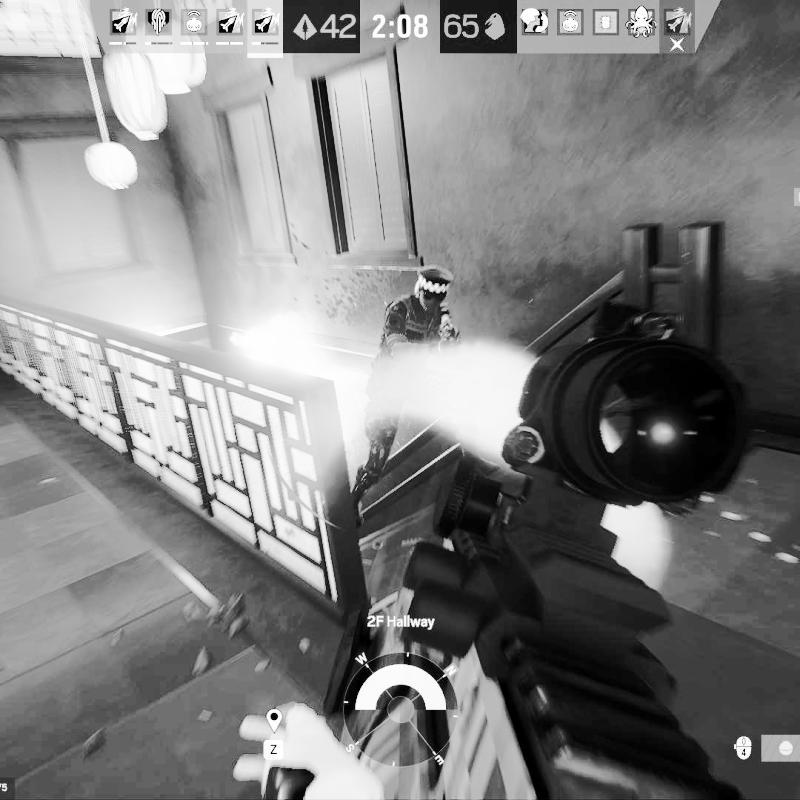Character: (345, 263, 468, 534)
Head: (412, 264, 454, 317)
